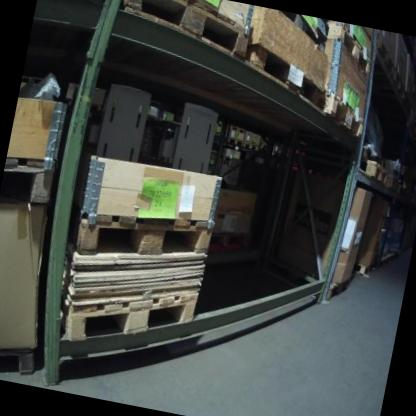pallet: (59, 267, 200, 365), (70, 194, 216, 280), (115, 0, 255, 60), (238, 38, 328, 106), (0, 148, 59, 213), (320, 21, 379, 73), (314, 88, 370, 139), (0, 339, 39, 386), (207, 225, 253, 255), (370, 31, 400, 73), (357, 155, 391, 185), (325, 272, 350, 302), (386, 64, 405, 92), (354, 261, 376, 276), (228, 123, 246, 135), (225, 135, 244, 146), (242, 141, 258, 152)
